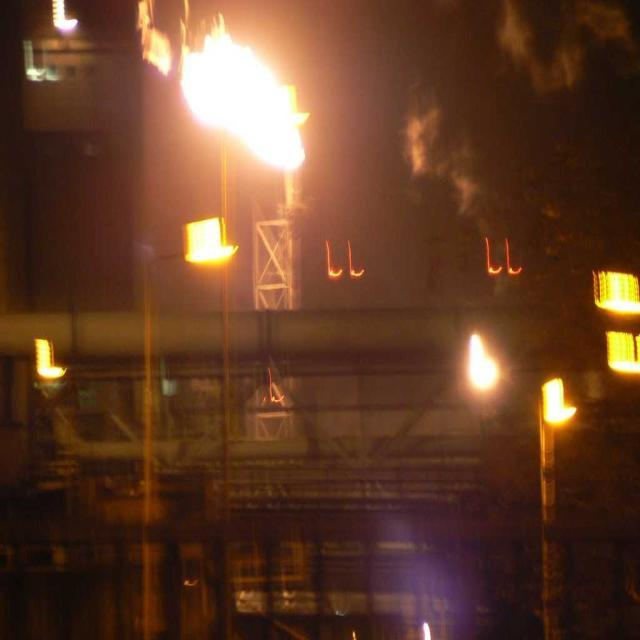Fire: (185, 40, 310, 165), (194, 224, 225, 264)
